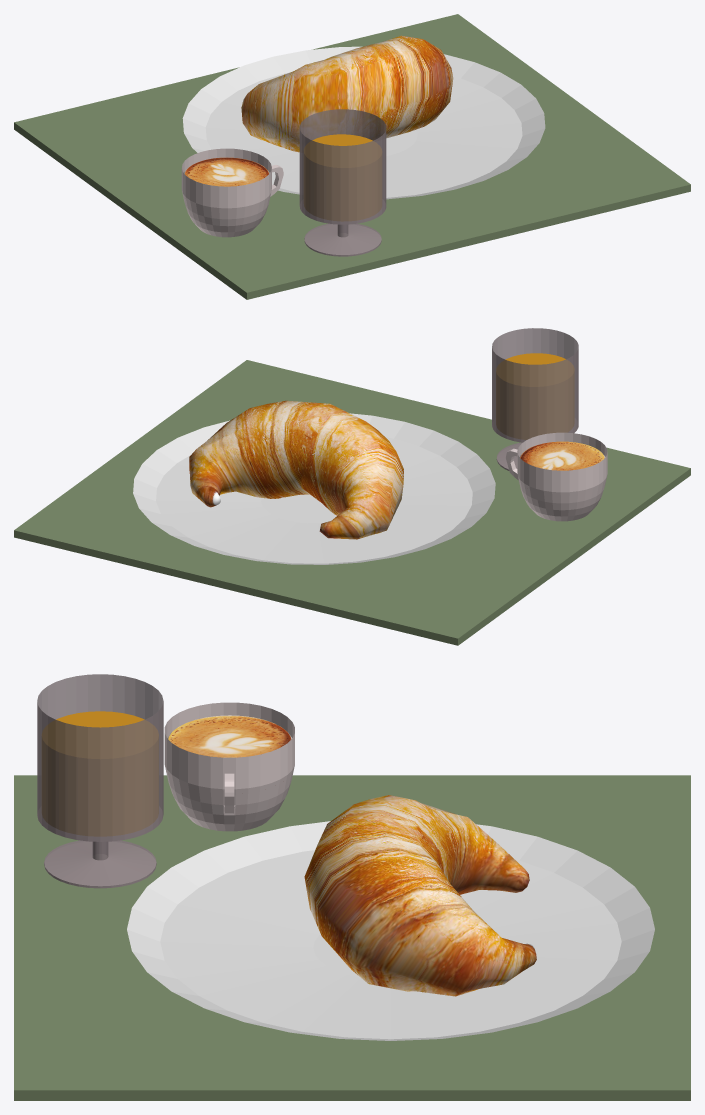
Rendered from Menu2Francia.glb.
The picture shows the model from 3 angles, top to bottom: view 1: azimuth 30°, elevation 25°; view 2: azimuth 150°, elevation 25°; view 3: azimuth 270°, elevation 25°; orthographic projection. The views are drawn at different scales.
Visible parts, largest first — view 1: Cube, Cylinder, Cylinder.001, Cylinder.010, Cylinder.011, Circle, Cylinder.012; view 2: Cube, Cylinder, Cylinder.001, Cylinder.010, Cylinder.011, Circle, Cylinder.012; view 3: Cube, Cylinder, Cylinder.001, Cylinder.010, Cylinder.011, Circle, Cylinder.012.
Boxes of the visible parts, x1,y1,x2,y2 form: Cube: (14,14,690,299); Cylinder: (182,46,545,199); Cylinder.001: (241,35,453,152); Cylinder.010: (299,109,386,256); Cylinder.011: (304,134,381,220); Circle: (181,148,283,237); Cylinder.012: (184,157,269,186); Cube: (14,360,690,645); Cylinder: (133,413,495,564); Cylinder.001: (189,400,403,539); Cylinder.010: (492,328,578,470); Cylinder.011: (496,353,573,439); Circle: (506,432,607,521); Cylinder.012: (519,441,605,470); Cube: (14,775,690,1100); Cylinder: (127,821,654,1040); Cylinder.001: (304,795,536,996); Cylinder.010: (37,674,163,888); Cylinder.011: (42,711,158,835); Circle: (164,702,294,831); Cylinder.012: (167,715,292,757).
Bounding box in the file's own units: 22.67 × 5.85 × 20.59.
Materials: 8 (3 with a texture image).
